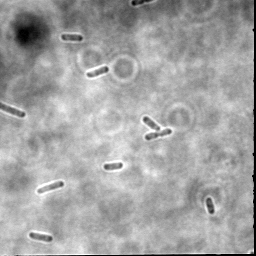Dividing: (144, 128, 173, 142)
Rod: (35, 179, 65, 196), (1, 102, 26, 119), (141, 114, 162, 132), (85, 64, 110, 79), (28, 230, 53, 243), (60, 33, 84, 43), (103, 161, 124, 171), (205, 196, 215, 215)
